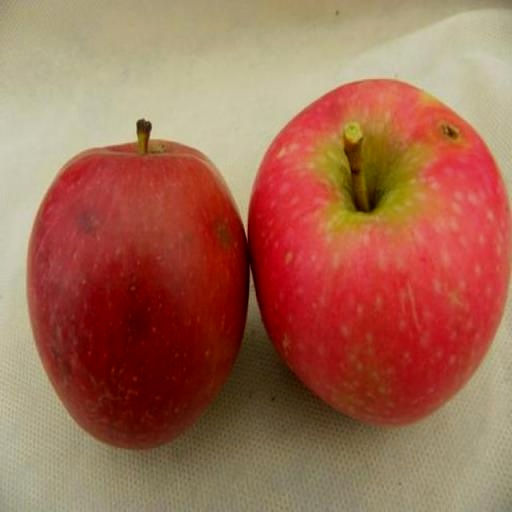fruit: (101, 146, 385, 512), (503, 122, 512, 448)
